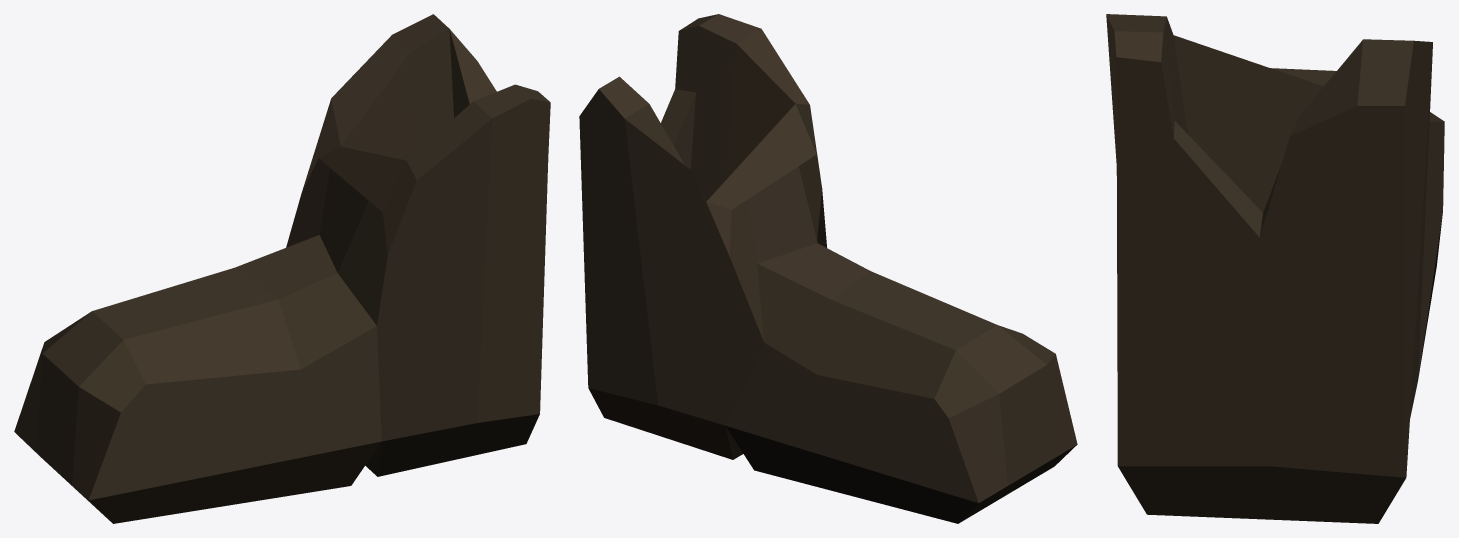
Rendered from boot2 fbx.fbx.
3 views of the same model, side by side, from view 1: azimuth 30°, elevation 25°; view 2: azimuth 150°, elevation 25°; view 3: azimuth 270°, elevation 25° (orthographic). The views are drawn at different scales.
Visible parts, largest first — view 1: polySurface8; view 2: polySurface8; view 3: polySurface8.
Part boxes in pixels (x1=…): polySurface8: x1=14, y1=14, x2=550, y2=523; polySurface8: x1=579, y1=14, x2=1077, y2=523; polySurface8: x1=1106, y1=14, x2=1444, y2=523.
Size of the model in its own units: 1.61 by 1.26 by 0.7876.
